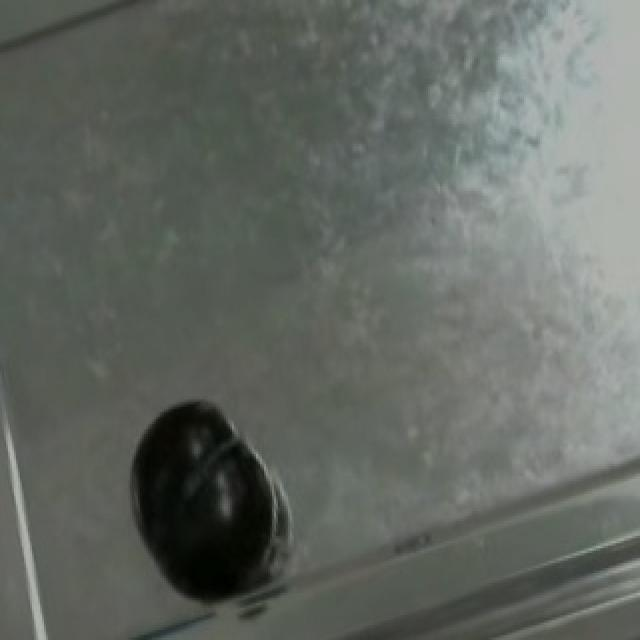Fruit: (118, 414, 292, 618)
